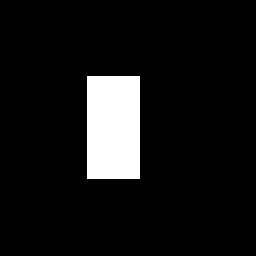person: (87, 76, 139, 178)
